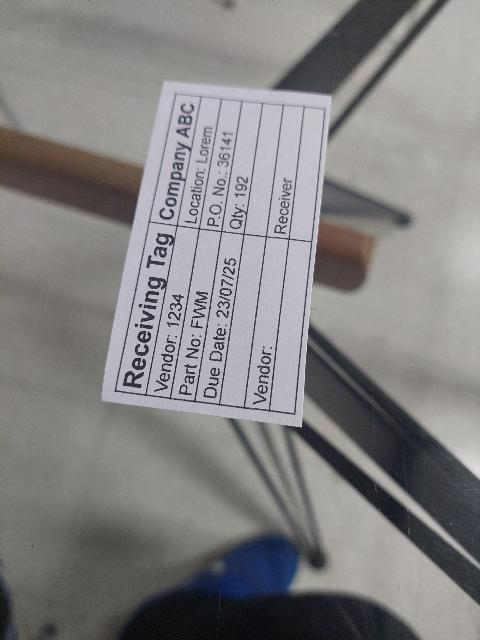PO no: (201, 99, 241, 233)
part no: (170, 229, 222, 401)
qty: (220, 102, 262, 235)
tags: (100, 81, 332, 432)
